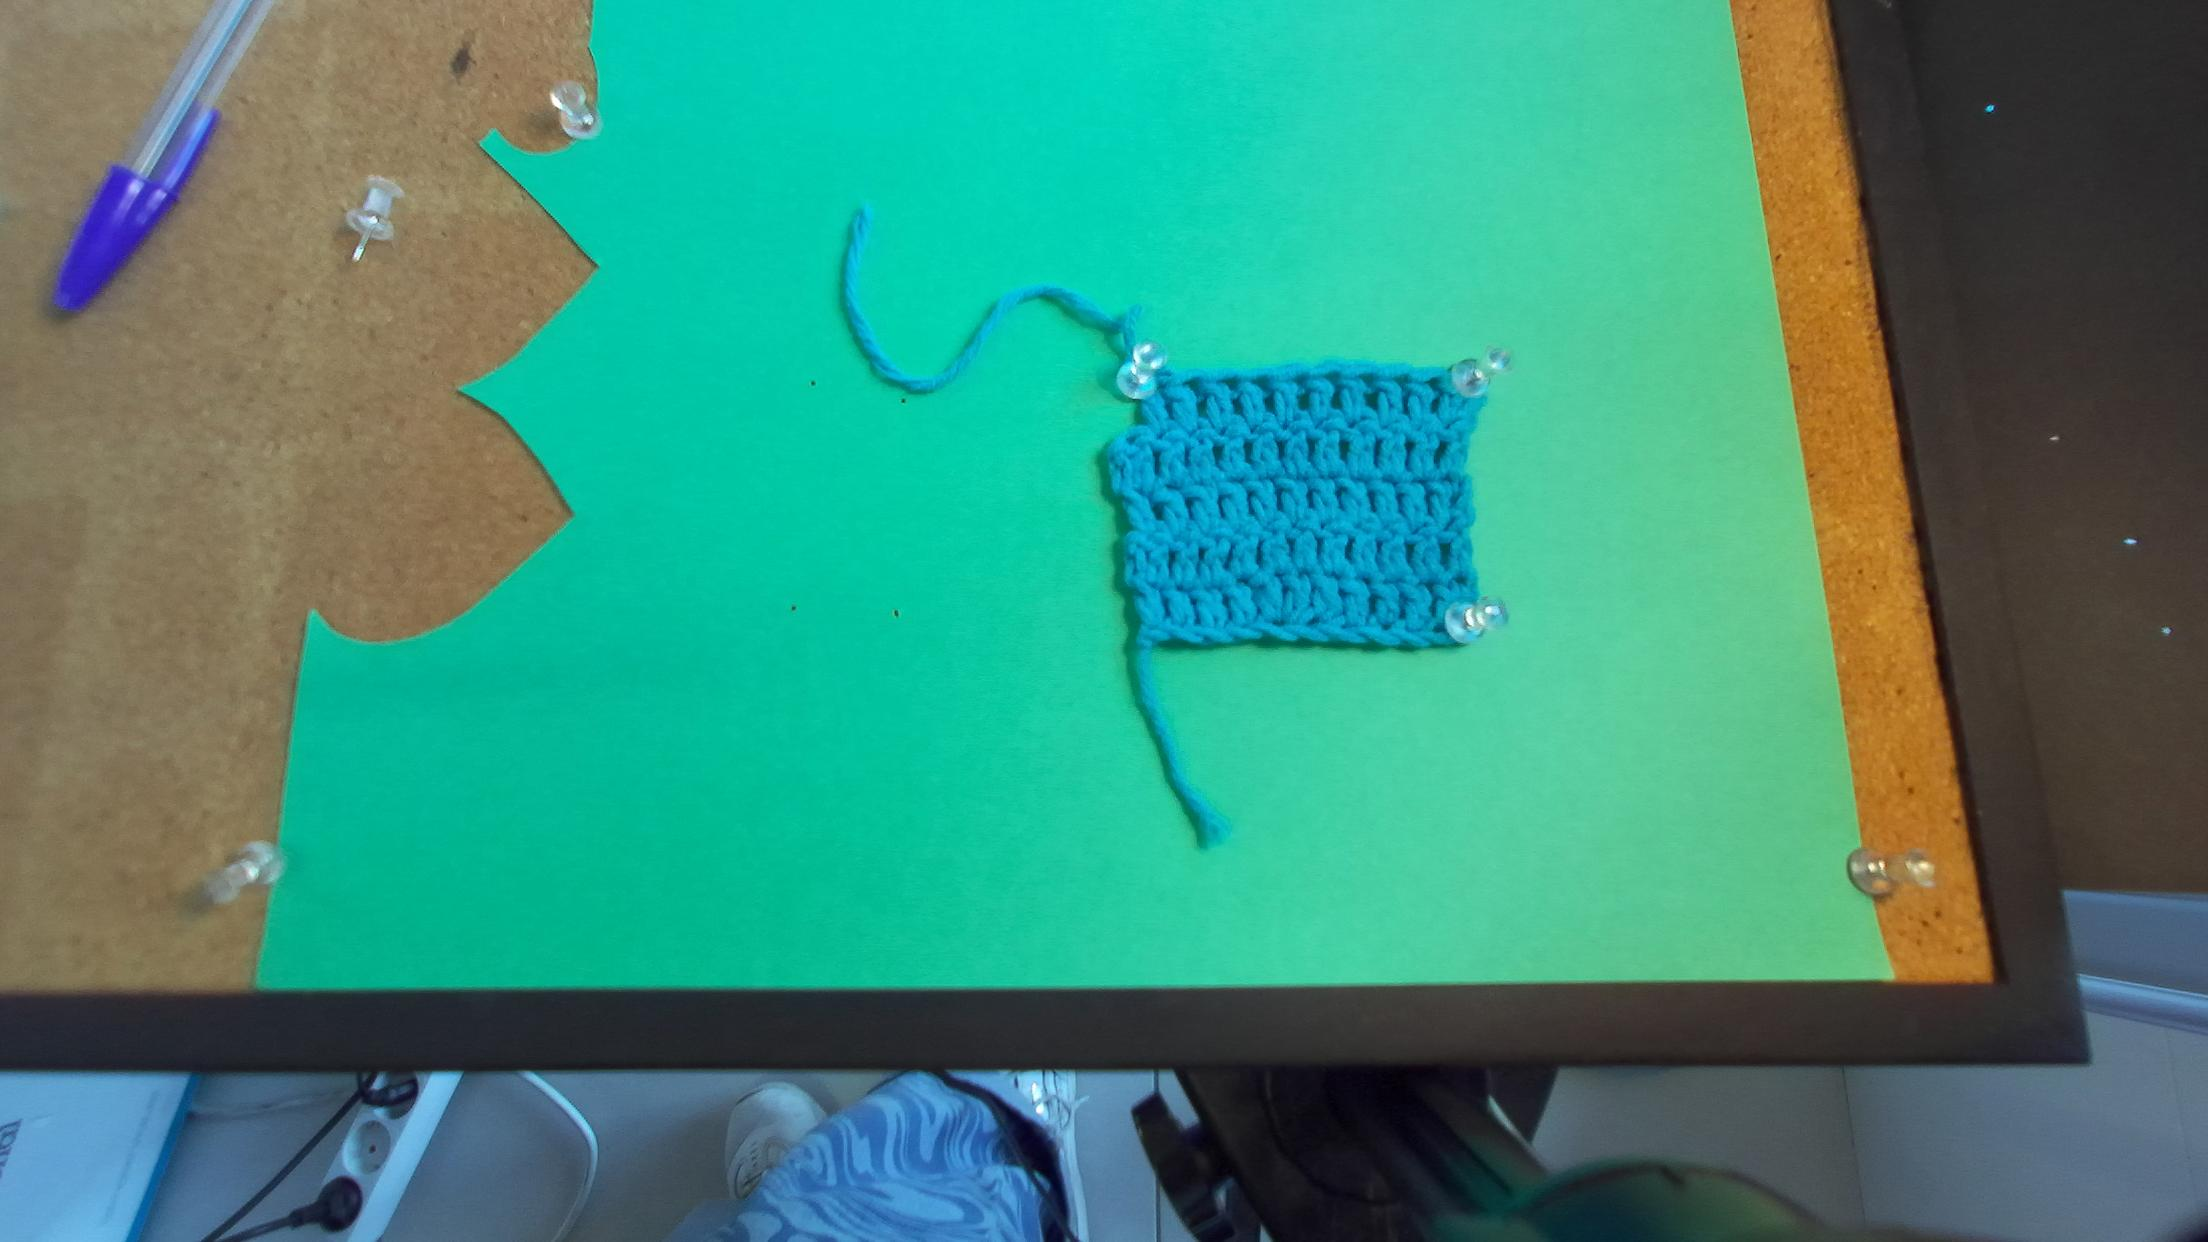hole: (1251, 375, 1275, 390), (1214, 377, 1239, 391), (1181, 376, 1202, 390), (1321, 370, 1340, 385), (1292, 372, 1310, 387), (1356, 371, 1376, 384), (1423, 376, 1440, 389), (1392, 375, 1411, 386), (1156, 381, 1168, 390)
swatch: (1106, 360, 1508, 649)
